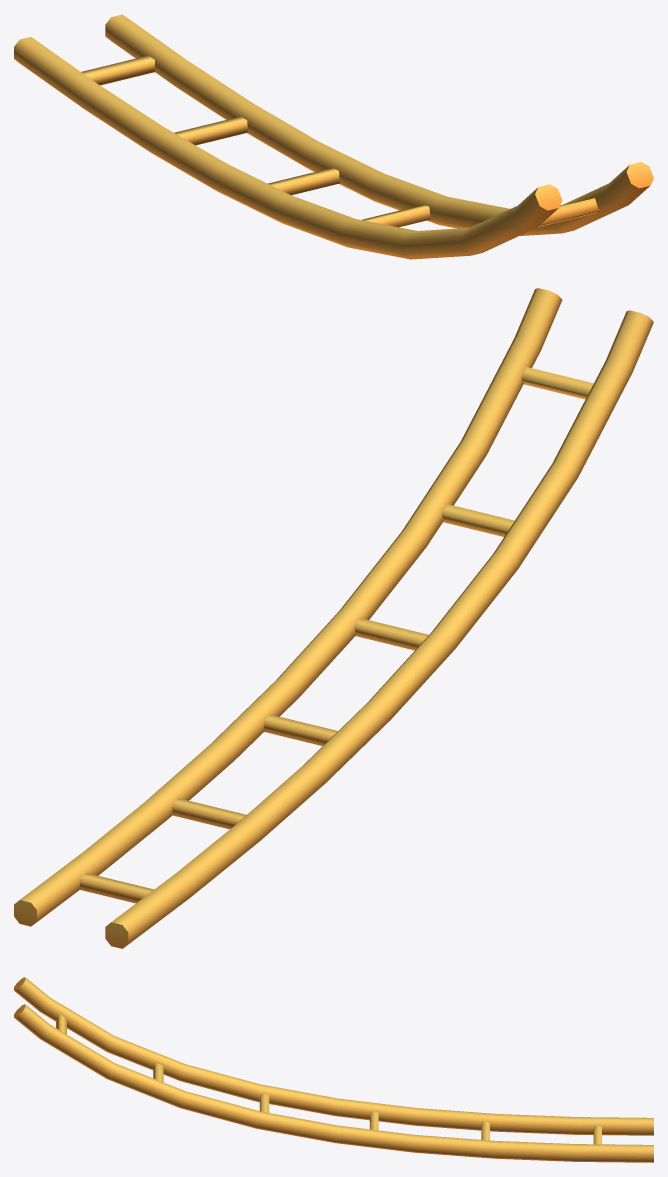
The model's file is coaster-kit--coaster-mouse-straight-hill-beginning.glb.
3 views of the same model, one above another, from view 1: azimuth 30°, elevation 25°; view 2: azimuth 150°, elevation 25°; view 3: azimuth 270°, elevation 25° (orthographic). The views are drawn at different scales.
Parts seen in each view (by area): view 1: coaster-mouse-straight-hill-beginning; view 2: coaster-mouse-straight-hill-beginning; view 3: coaster-mouse-straight-hill-beginning.
Part boxes in pixels (bbox=[...]): coaster-mouse-straight-hill-beginning: bbox=[14, 14, 653, 259]; coaster-mouse-straight-hill-beginning: bbox=[14, 288, 653, 948]; coaster-mouse-straight-hill-beginning: bbox=[14, 977, 653, 1162].
Size of the model in its own units: 0.5 by 1.07 by 4.
1 material, 1 textured.
